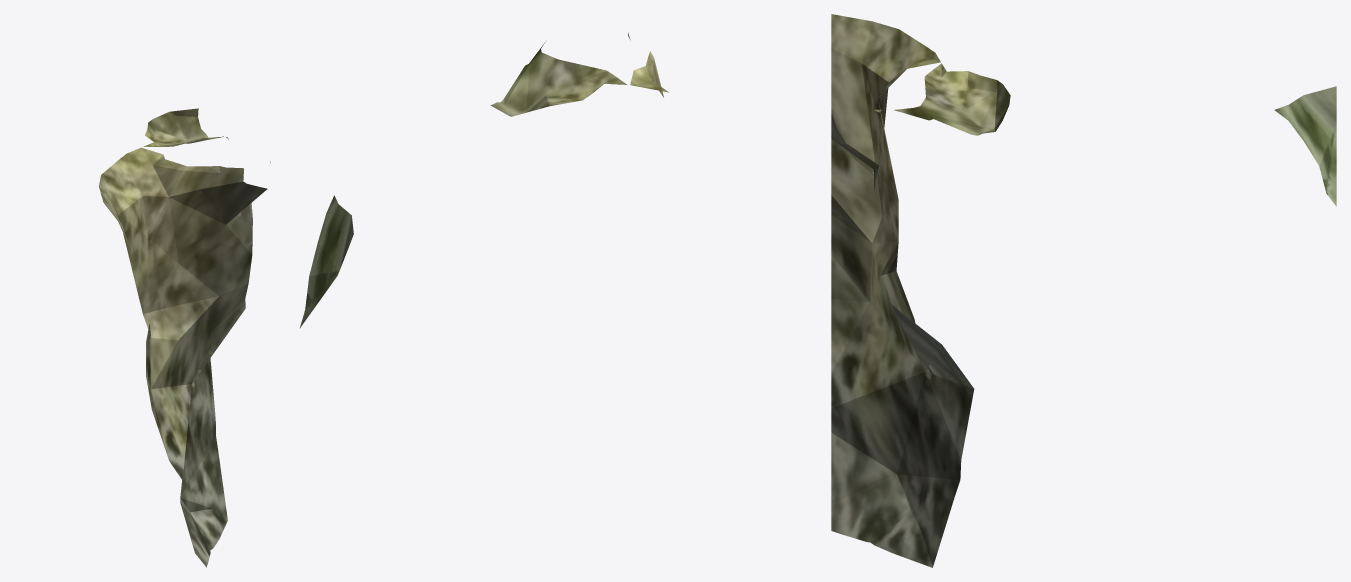
The picture shows the model from 3 angles, left to right: view 1: azimuth 30°, elevation 25°; view 2: azimuth 150°, elevation 25°; view 3: azimuth 270°, elevation 25°; orthographic projection. The views are drawn at different scales.
Size of the model in its own units: 1.33 by 2.95 by 2.95.
Materials: 1 (1 with a texture image).
